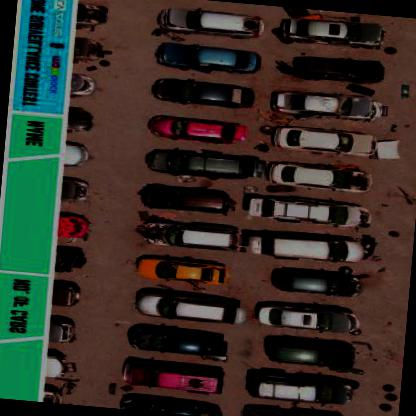car: (152, 147, 360, 193), (155, 220, 358, 263), (267, 88, 382, 124), (134, 290, 246, 326), (154, 39, 260, 76), (246, 196, 368, 228), (155, 6, 265, 41), (129, 324, 231, 360), (151, 76, 257, 110), (276, 52, 384, 84), (255, 301, 359, 334), (122, 362, 226, 394), (270, 267, 364, 298), (136, 256, 228, 286), (117, 393, 226, 415), (54, 279, 82, 306), (61, 178, 91, 202)
